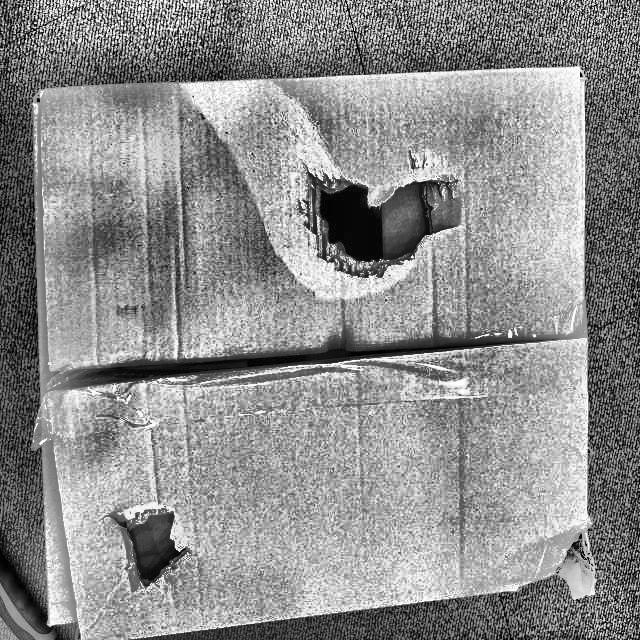box: (33, 65, 600, 639)
hole: (307, 182, 434, 264), (102, 512, 195, 589), (553, 529, 594, 589)
